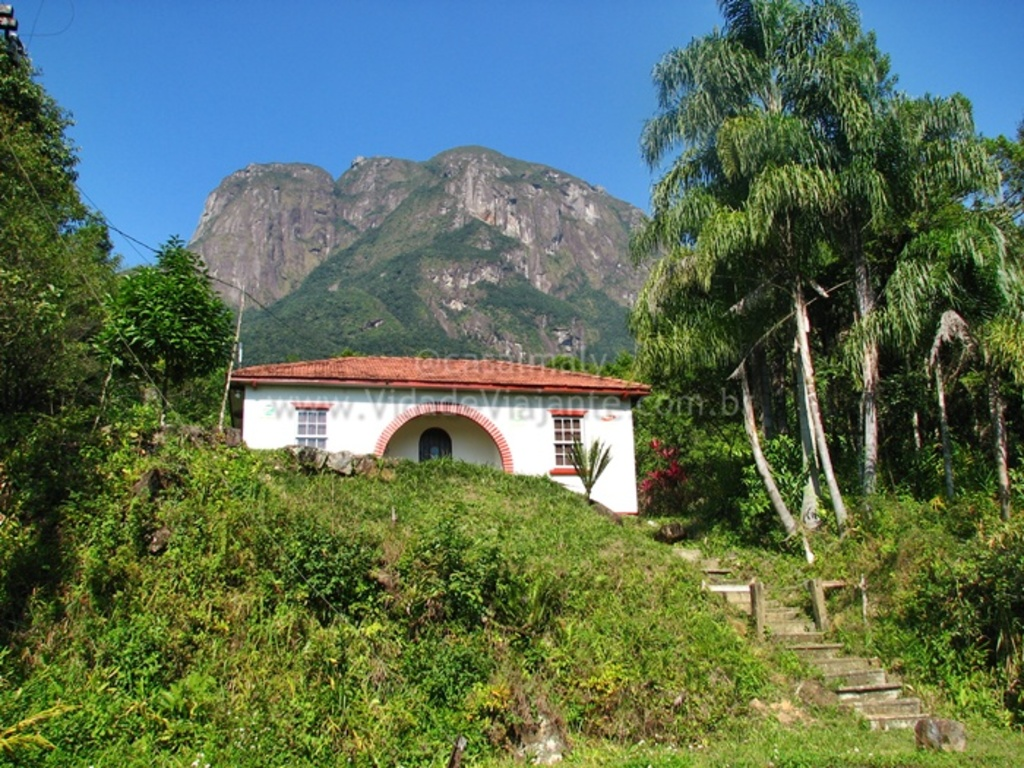Tree: (636, 7, 842, 526), (772, 0, 983, 491), (822, 100, 945, 504), (0, 7, 114, 435), (92, 242, 235, 462), (953, 149, 1022, 507)
